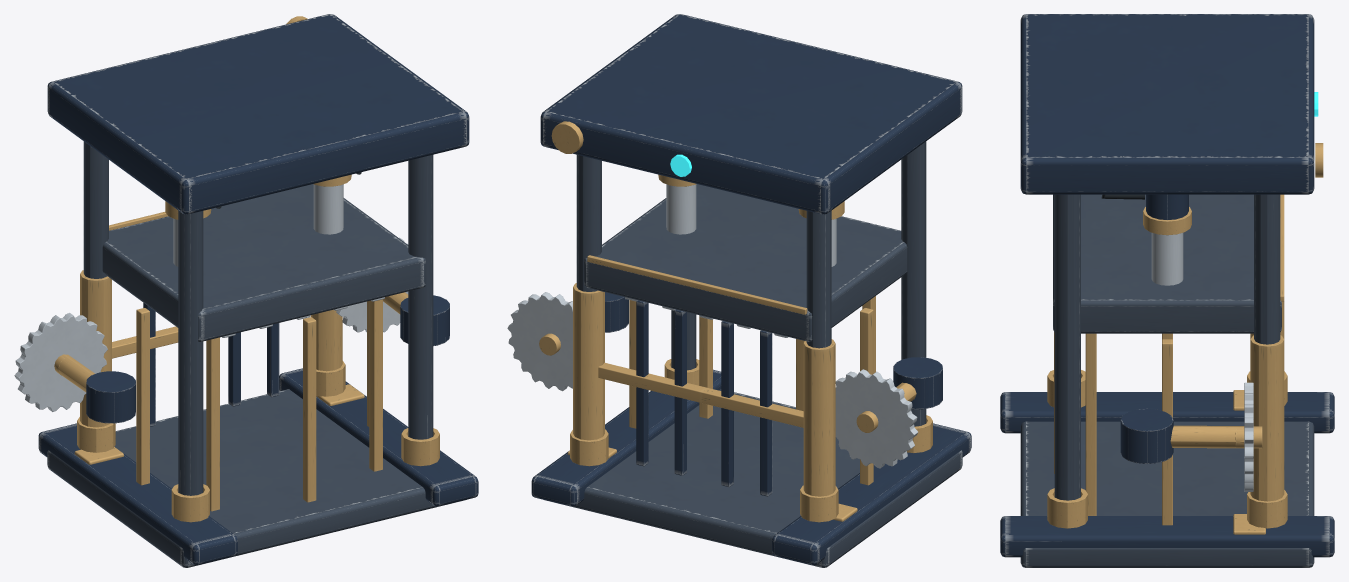
The model's file is compound_executor.glb.
The picture shows the model from 3 angles, left to right: view 1: azimuth 30°, elevation 25°; view 2: azimuth 150°, elevation 25°; view 3: azimuth 270°, elevation 25°; orthographic projection. The views are drawn at different scales.
Parts seen in each view (by area): view 1: compound_executor__crown, compound_executor__platen, compound_executor__ground_foundation, compound_executor__foot_neg1, compound_executor__column_2, compound_executor__column_3, compound_executor__execution_saw_neg1, compound_executor__foot_1, compound_executor__column_0, compound_executor__cage_bar_2, compound_executor__cage_bar_4, compound_executor__arm_motor_neg1 (+16 smaller); view 2: compound_executor__crown, compound_executor__platen, compound_executor__ground_foundation, compound_executor__foot_neg1, compound_executor__execution_saw_neg1, compound_executor__column_2, compound_executor__foot_1, compound_executor__gate_hinge_neg1, compound_executor__gate_hinge_1, compound_executor__execution_saw_1, compound_executor__column_0, compound_executor__column_1 (+17 smaller); view 3: compound_executor__crown, compound_executor__ground_foundation, compound_executor__platen, compound_executor__foot_1, compound_executor__column_3, compound_executor__foot_neg1, compound_executor__gate_hinge_1, compound_executor__column_1, compound_executor__arm_motor_1, compound_executor__cage_bar_1, compound_executor__telescopic_stage_1, compound_executor__saw_arm_1 (+8 smaller).
Boxes of the visible parts, <box> form: compound_executor__crown: <box>47,14,469,214</box>; compound_executor__platen: <box>102,184,425,341</box>; compound_executor__ground_foundation: <box>47,389,466,567</box>; compound_executor__foot_neg1: <box>38,423,237,565</box>; compound_executor__column_2: <box>178,211,203,495</box>; compound_executor__column_3: <box>408,155,433,439</box>; compound_executor__execution_saw_neg1: <box>14,313,107,411</box>; compound_executor__foot_1: <box>279,368,478,506</box>; compound_executor__column_0: <box>83,141,108,278</box>; compound_executor__cage_bar_2: <box>303,317,316,502</box>; compound_executor__cage_bar_4: <box>136,308,149,485</box>; compound_executor__arm_motor_neg1: <box>86,371,135,423</box>; compound_executor__crown: <box>540,14,962,214</box>; compound_executor__platen: <box>584,184,907,341</box>; compound_executor__ground_foundation: <box>543,389,962,567</box>; compound_executor__foot_neg1: <box>772,423,971,565</box>; compound_executor__execution_saw_neg1: <box>835,369,918,468</box>; compound_executor__column_2: <box>901,141,926,426</box>; compound_executor__foot_1: <box>531,369,721,506</box>; compound_executor__gate_hinge_neg1: <box>803,339,835,496</box>; compound_executor__gate_hinge_1: <box>573,283,604,440</box>; compound_executor__execution_saw_1: <box>507,292,572,391</box>; compound_executor__column_0: <box>806,211,831,348</box>; compound_executor__column_1: <box>576,155,601,291</box>; compound_executor__crown: <box>1020,14,1314,194</box>; compound_executor__ground_foundation: <box>1020,421,1314,567</box>; compound_executor__platen: <box>1053,194,1281,333</box>; compound_executor__foot_1: <box>1000,516,1334,557</box>; compound_executor__column_3: <box>1054,194,1080,500</box>; compound_executor__foot_neg1: <box>1000,392,1334,433</box>; compound_executor__gate_hinge_1: <box>1250,335,1284,501</box>; compound_executor__column_1: <box>1254,194,1280,344</box>; compound_executor__arm_motor_1: <box>1120,408,1173,463</box>; compound_executor__cage_bar_1: <box>1085,333,1096,515</box>; compound_executor__telescopic_stage_1: <box>1151,233,1183,285</box>; compound_executor__saw_arm_1: <box>1170,425,1244,448</box>.
Bounding box in the file's own units: 2.44 × 2.22 × 1.64.
2 materials, 2 textured.
